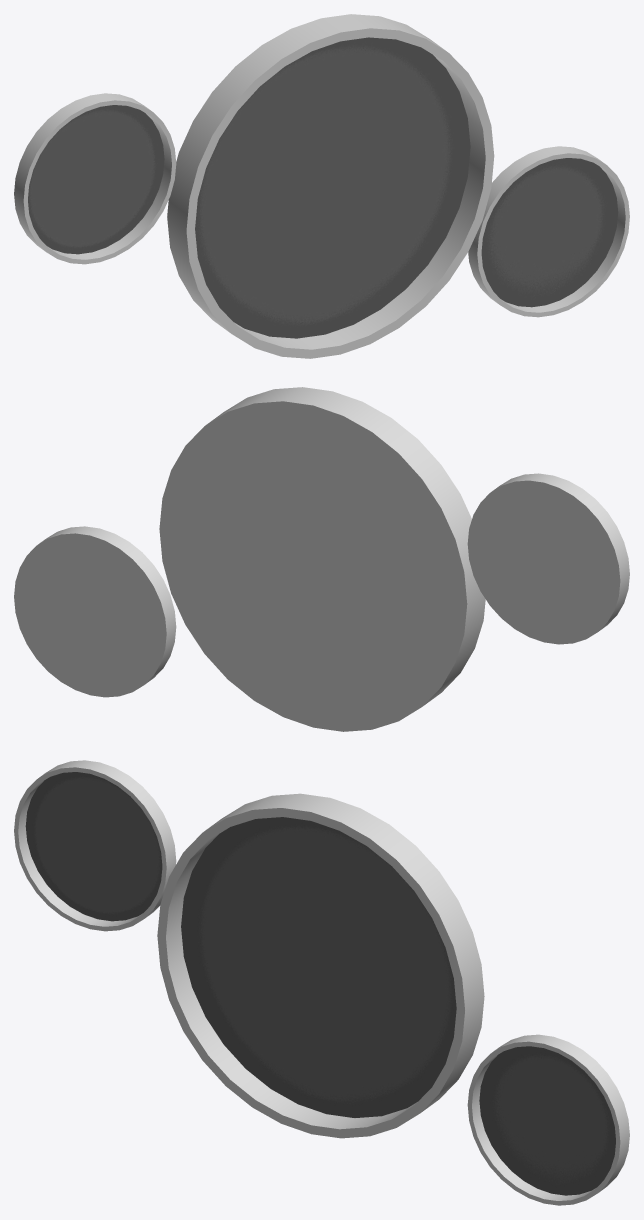
File: cermin.fbx
The picture shows the model from 3 angles, top to bottom: view 1: azimuth 30°, elevation 25°; view 2: azimuth 150°, elevation 25°; view 3: azimuth 330°, elevation 25°; orthographic projection.
Parts seen in each view (by area): view 1: Cylinder.037, Cylinder.036, Cylinder.039, Cylinder.041, Cylinder.038, Cylinder.040; view 2: Cylinder.036, Cylinder.040, Cylinder.038; view 3: Cylinder.037, Cylinder.036, Cylinder.039, Cylinder.041, Cylinder.040, Cylinder.038.
Part boxes in pixels (x1,y1,x2,y2): Cylinder.037: (195,37,470,338); Cylinder.036: (167,14,494,358); Cylinder.039: (28,105,164,254); Cylinder.041: (481,158,618,307); Cylinder.038: (14,93,176,264); Cylinder.040: (468,146,629,317); Cylinder.036: (159,387,485,731); Cylinder.040: (14,526,176,697); Cylinder.038: (467,473,629,644); Cylinder.037: (181,817,456,1117); Cylinder.036: (157,793,484,1138); Cylinder.039: (25,772,162,921); Cylinder.041: (479,1046,615,1195); Cylinder.040: (467,1034,629,1205); Cylinder.038: (14,760,176,931).
Size of the model in its own units: 264 by 143 by 14.61.
2 materials, 1 textured.
